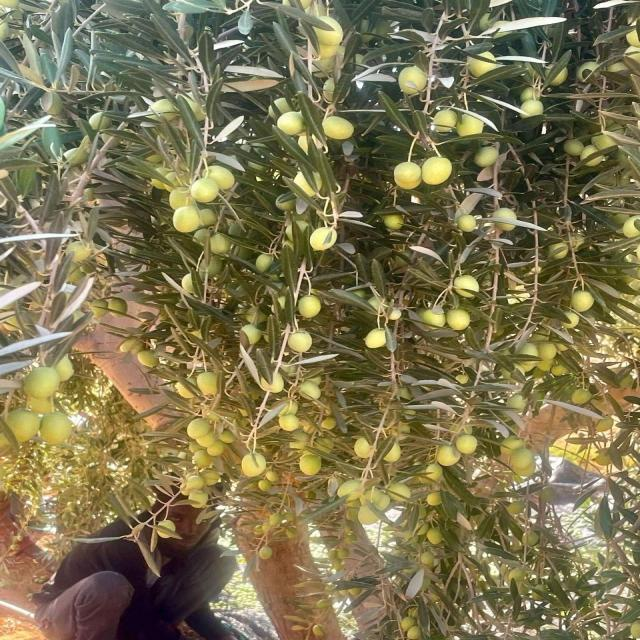Healthy: (186, 419, 235, 467), (23, 367, 60, 400), (6, 409, 38, 444), (40, 412, 72, 445), (421, 156, 452, 185), (393, 162, 421, 190), (190, 176, 219, 202), (207, 165, 236, 190), (510, 447, 535, 476), (323, 116, 353, 140), (173, 206, 200, 232), (277, 112, 305, 136), (241, 452, 266, 477), (297, 294, 321, 318), (569, 290, 594, 312), (475, 146, 499, 168), (446, 308, 470, 330), (299, 452, 321, 476), (197, 372, 219, 396), (287, 332, 312, 353), (436, 445, 460, 466), (455, 434, 478, 454), (364, 328, 386, 348), (279, 415, 301, 432), (457, 214, 476, 232), (571, 389, 591, 406), (258, 544, 276, 560)
